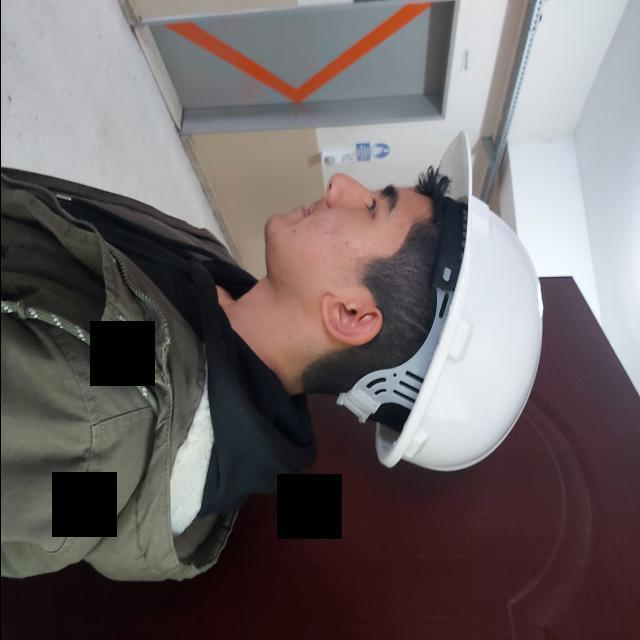white helmet: (335, 119, 556, 480)
